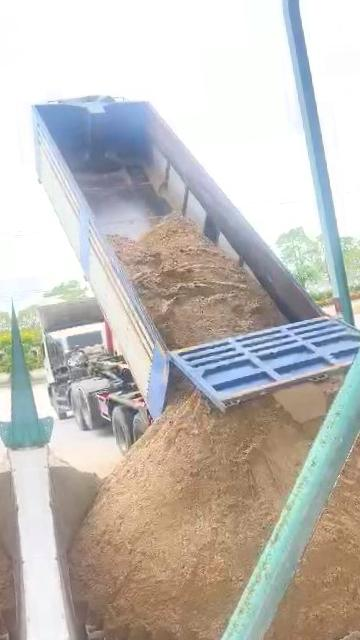sand: (70, 368, 319, 640), (109, 217, 286, 348), (265, 434, 360, 640), (51, 457, 100, 552), (273, 376, 343, 423)
